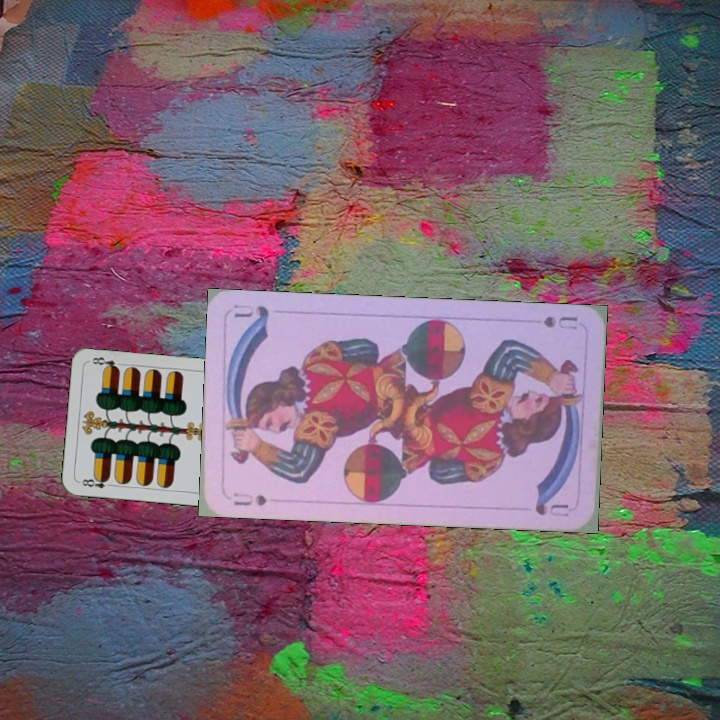E8: (76, 473, 116, 491)
SU: (229, 488, 270, 509), (539, 312, 581, 332)
